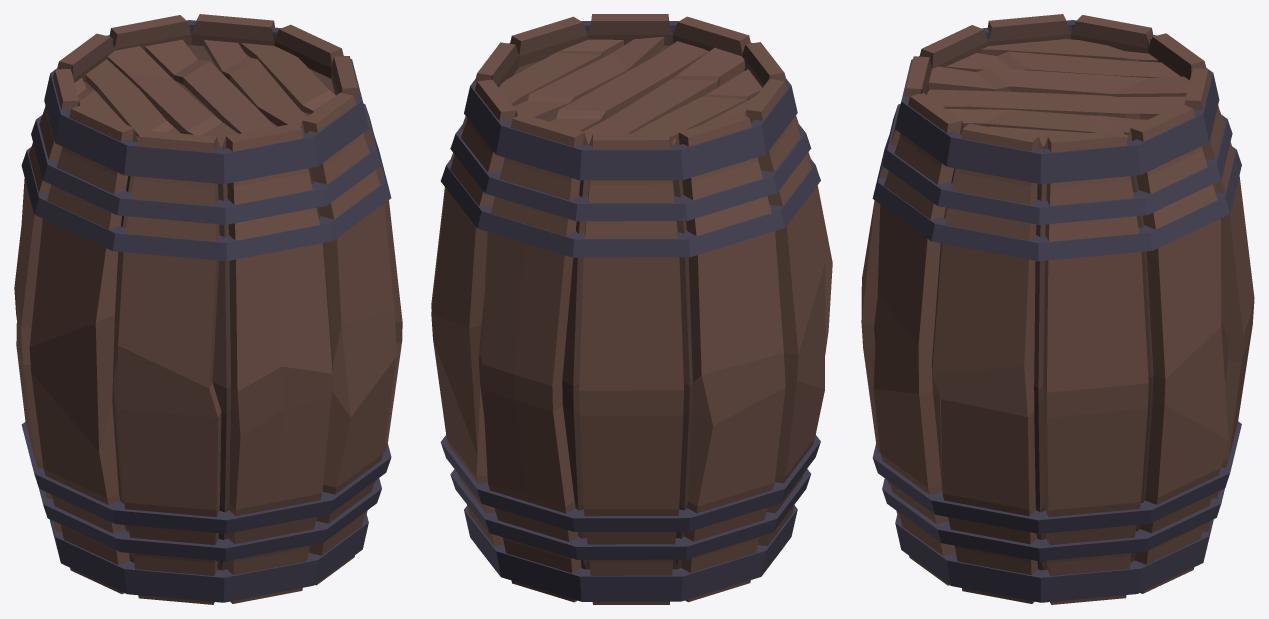
The model's file is barrel.glb.
3 renders of one model, left to right at view 1: azimuth 30°, elevation 25°; view 2: azimuth 150°, elevation 25°; view 3: azimuth 270°, elevation 25°, orthographic.
Visible parts, largest first — view 1: Barrel; view 2: Barrel; view 3: Barrel.
Boxes of the visible parts, x1,y1,x2,y2 form: Barrel: (14, 14, 402, 604); Barrel: (431, 14, 832, 604); Barrel: (861, 14, 1254, 604).
Bounding box in the file's own units: 1.04 × 1.35 × 1.03.
1 material, 1 textured.
